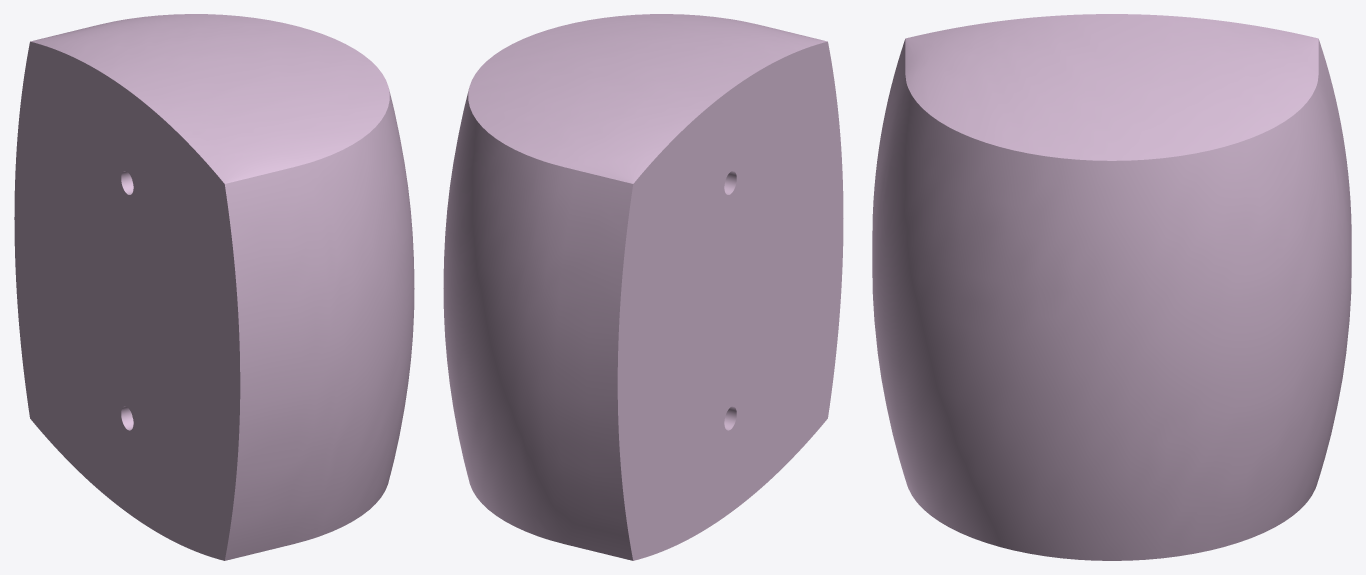
Rendered from OUTFITTING_INTERIOR__EXT. INSTRUMENTS__FWD MAST__HV2__INSTRUMENTS__Steaming light__SL surfs.glb.
The picture shows the model from 3 angles, left to right: view 1: azimuth 30°, elevation 25°; view 2: azimuth 150°, elevation 25°; view 3: azimuth 270°, elevation 25°; orthographic projection. The views are drawn at different scales.
Bounding box in the file's own units: 0.0572 × 0.0899 × 0.087.
